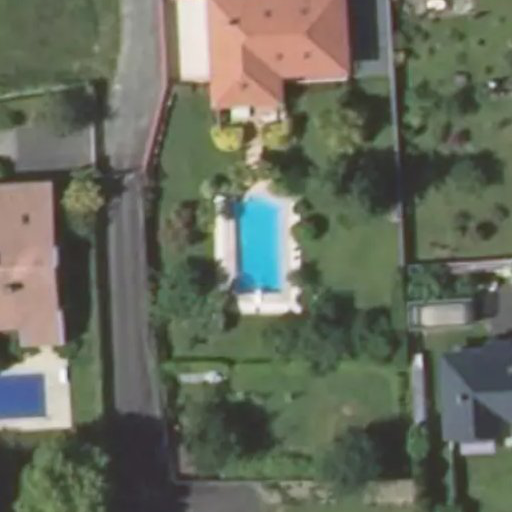pool: (232, 191, 279, 292)
